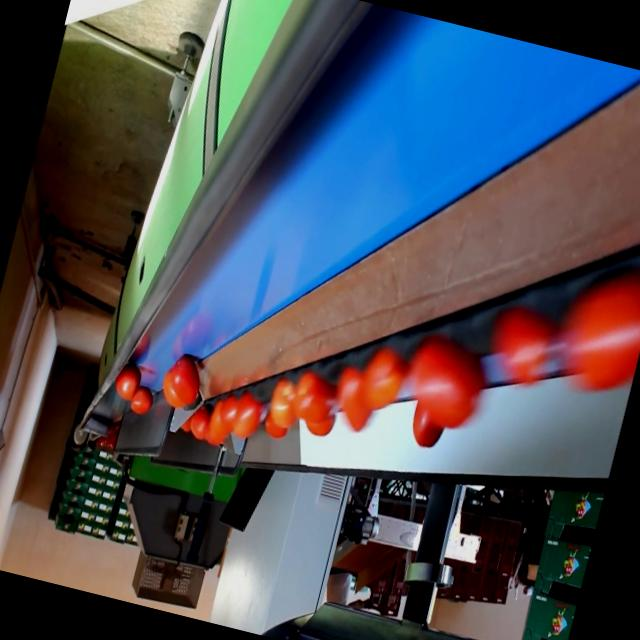Tomato: (548, 270, 640, 404), (400, 336, 490, 436), (482, 304, 557, 388), (326, 366, 384, 436), (354, 346, 408, 416), (288, 367, 346, 428), (166, 347, 210, 408), (226, 389, 270, 444), (263, 377, 306, 432), (407, 402, 447, 454), (109, 360, 143, 404), (126, 384, 158, 425), (206, 406, 234, 451), (185, 406, 212, 444), (217, 397, 242, 432)
